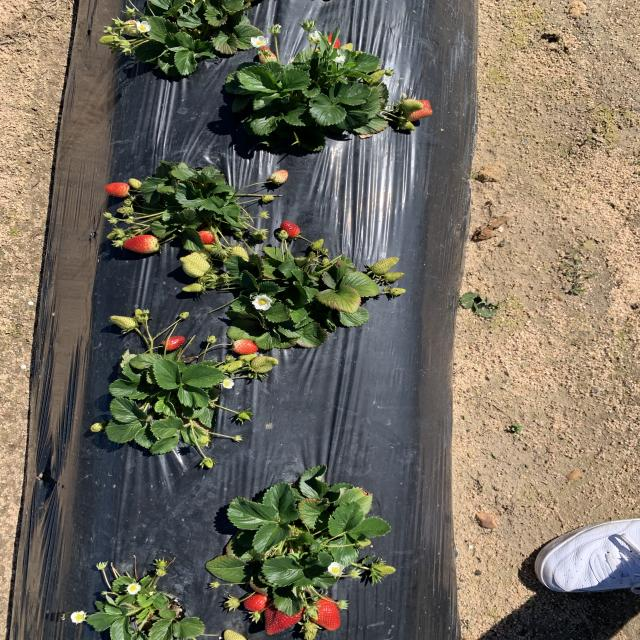unripe: (263, 596, 305, 636), (305, 594, 343, 632), (121, 235, 161, 255), (244, 590, 268, 612), (322, 31, 343, 52), (160, 334, 187, 350), (233, 339, 260, 354), (105, 182, 130, 198), (280, 220, 300, 239), (197, 230, 218, 243)
